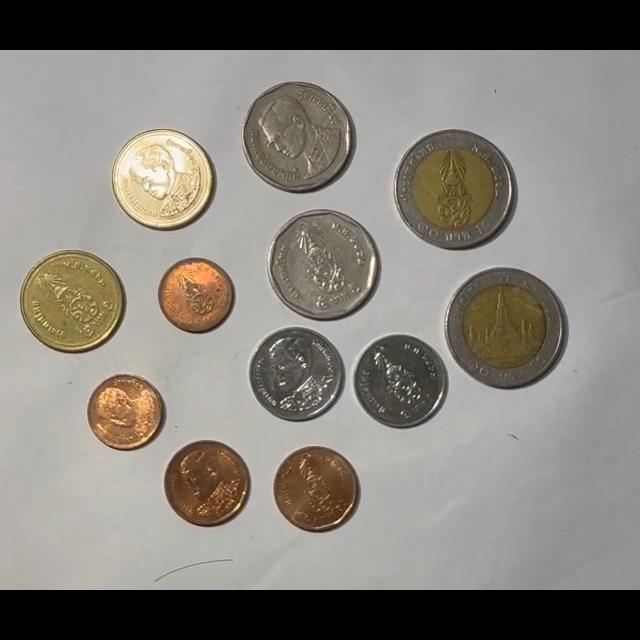1-baht: (248, 327, 344, 421), (353, 334, 448, 428)
10-baht: (444, 267, 565, 388), (393, 130, 515, 250)
2-baht: (21, 249, 125, 354), (112, 128, 214, 231)
25-satang: (87, 374, 165, 450), (158, 257, 233, 332)
5-baht: (267, 209, 380, 322), (242, 82, 356, 194)
50-satang: (164, 441, 250, 527), (273, 447, 359, 532)
